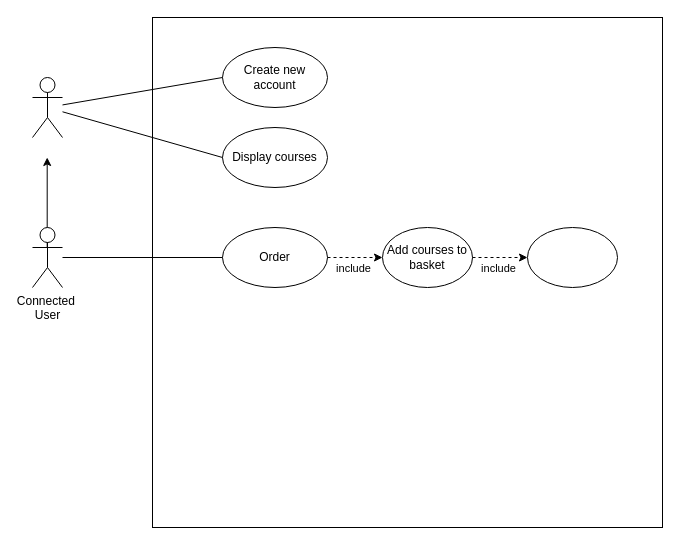
The diagram is 680 pixels wide and 545 high, and some of its shapes have lost their labels. Each missing label, with the centre of its shape:
"Connexion" belongs at [572,257].
"User" belongs at [47,107].
